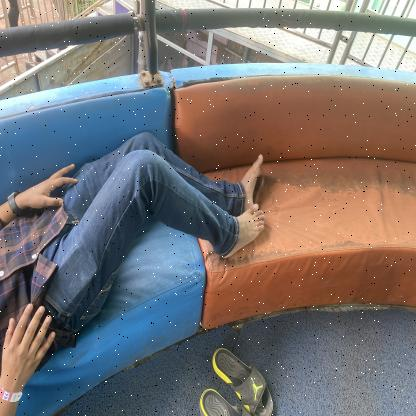hand: (0, 291, 60, 416), (0, 163, 84, 226)
leg: (191, 138, 297, 219), (203, 195, 273, 258)
